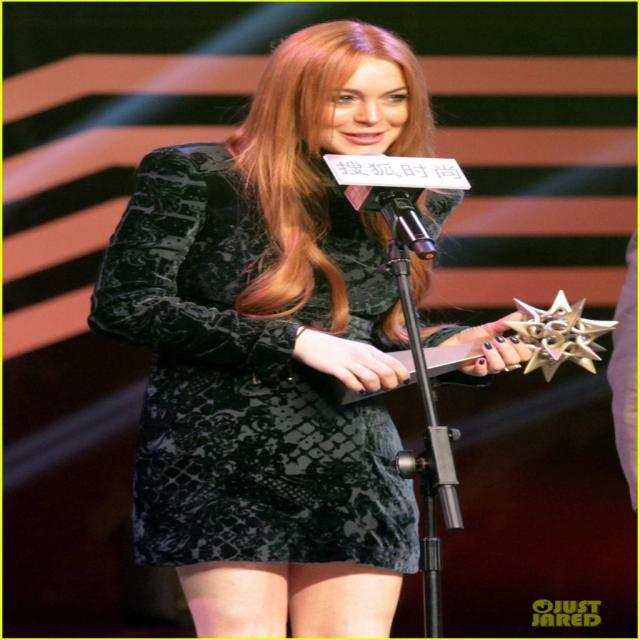Face: (298, 47, 416, 165)
